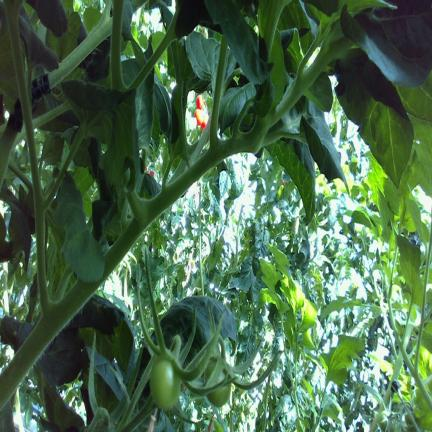tomato: (150, 357, 180, 409), (205, 358, 231, 406), (194, 109, 203, 125), (196, 94, 203, 109), (201, 118, 206, 129)
